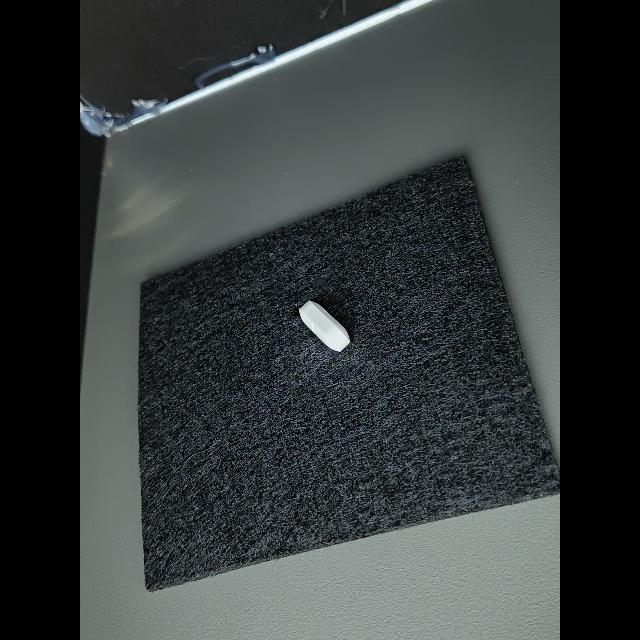Intact Pill: (299, 301, 350, 351)
